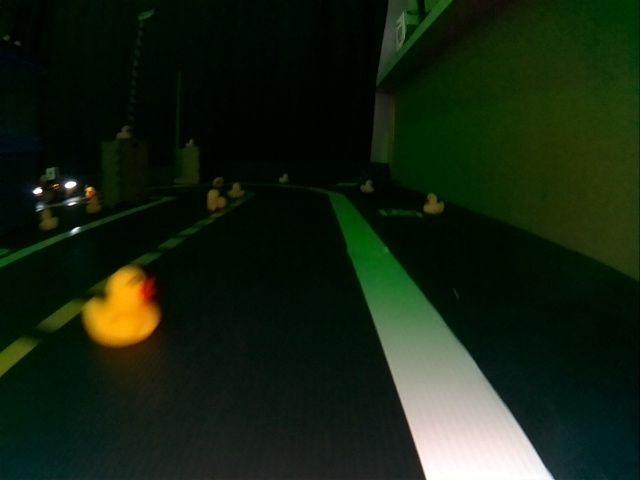Duckie: (84, 268, 161, 348), (424, 194, 443, 212), (208, 190, 225, 209), (40, 210, 57, 229), (228, 184, 244, 197), (116, 125, 129, 138)
QR code: (379, 208, 422, 216)
